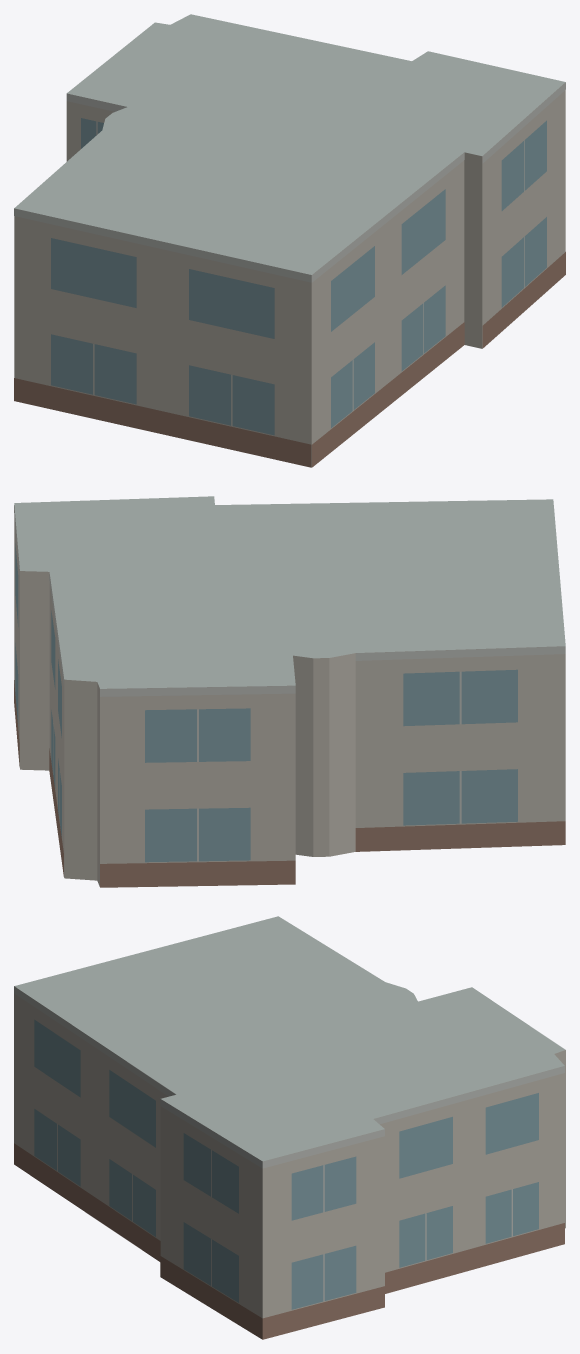
The model's file is survey-upis-32625086.glb.
The picture shows the model from 3 angles, top to bottom: view 1: azimuth 30°, elevation 25°; view 2: azimuth 150°, elevation 25°; view 3: azimuth 270°, elevation 25°; orthographic projection. The views are drawn at different scales.
Visible parts, largest first — view 1: survey-upis-32625086.tmp; view 2: survey-upis-32625086.tmp; view 3: survey-upis-32625086.tmp.
Boxes of the visible parts, <box> form: survey-upis-32625086.tmp: <box>14,14,565,467</box>; survey-upis-32625086.tmp: <box>14,496,565,887</box>; survey-upis-32625086.tmp: <box>14,916,565,1339</box>.
Bounding box in the file's own units: 18.01 × 6.1 × 17.12.
